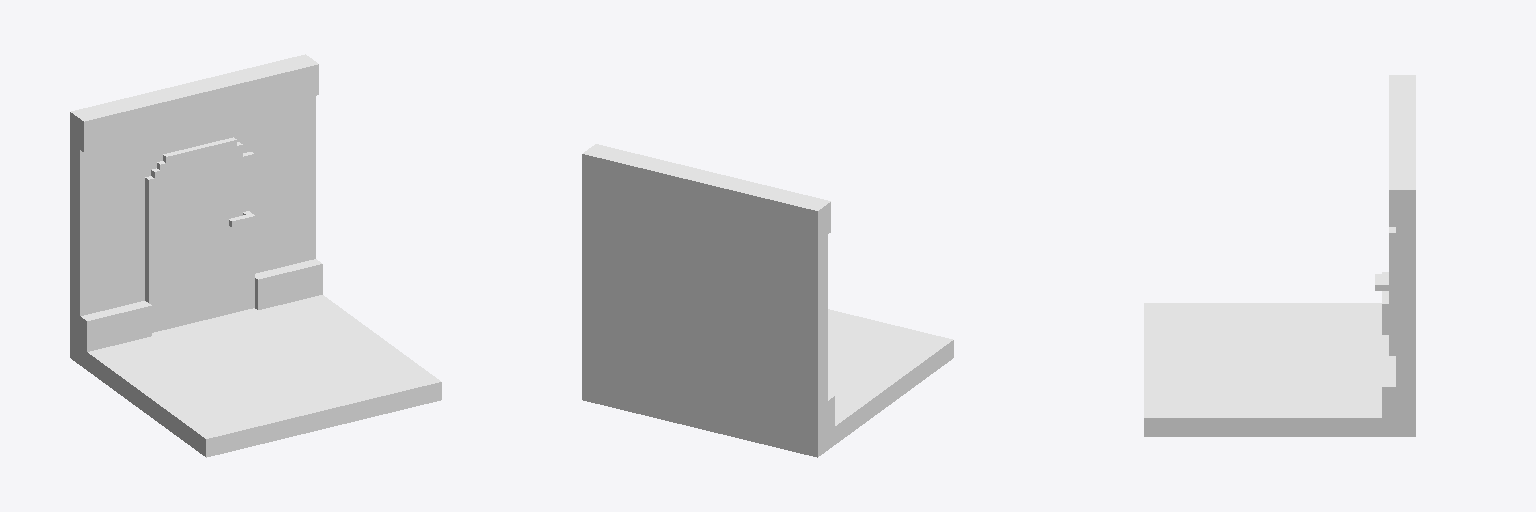
File: WallLeftDoorVoxel.obj
3 renders of one model, left to right at view 1: azimuth 30°, elevation 25°; view 2: azimuth 150°, elevation 25°; view 3: azimuth 270°, elevation 25°, orthographic.
Visible parts, largest first — view 1: object 1; view 2: object 1; view 3: object 1.
Boxes of the visible parts, box(x1,y1,x2,y2) form: object 1: box(70, 54, 441, 457); object 1: box(582, 144, 953, 457); object 1: box(1144, 75, 1415, 436).
Bounding box in the file's own units: 4 × 4 × 4.